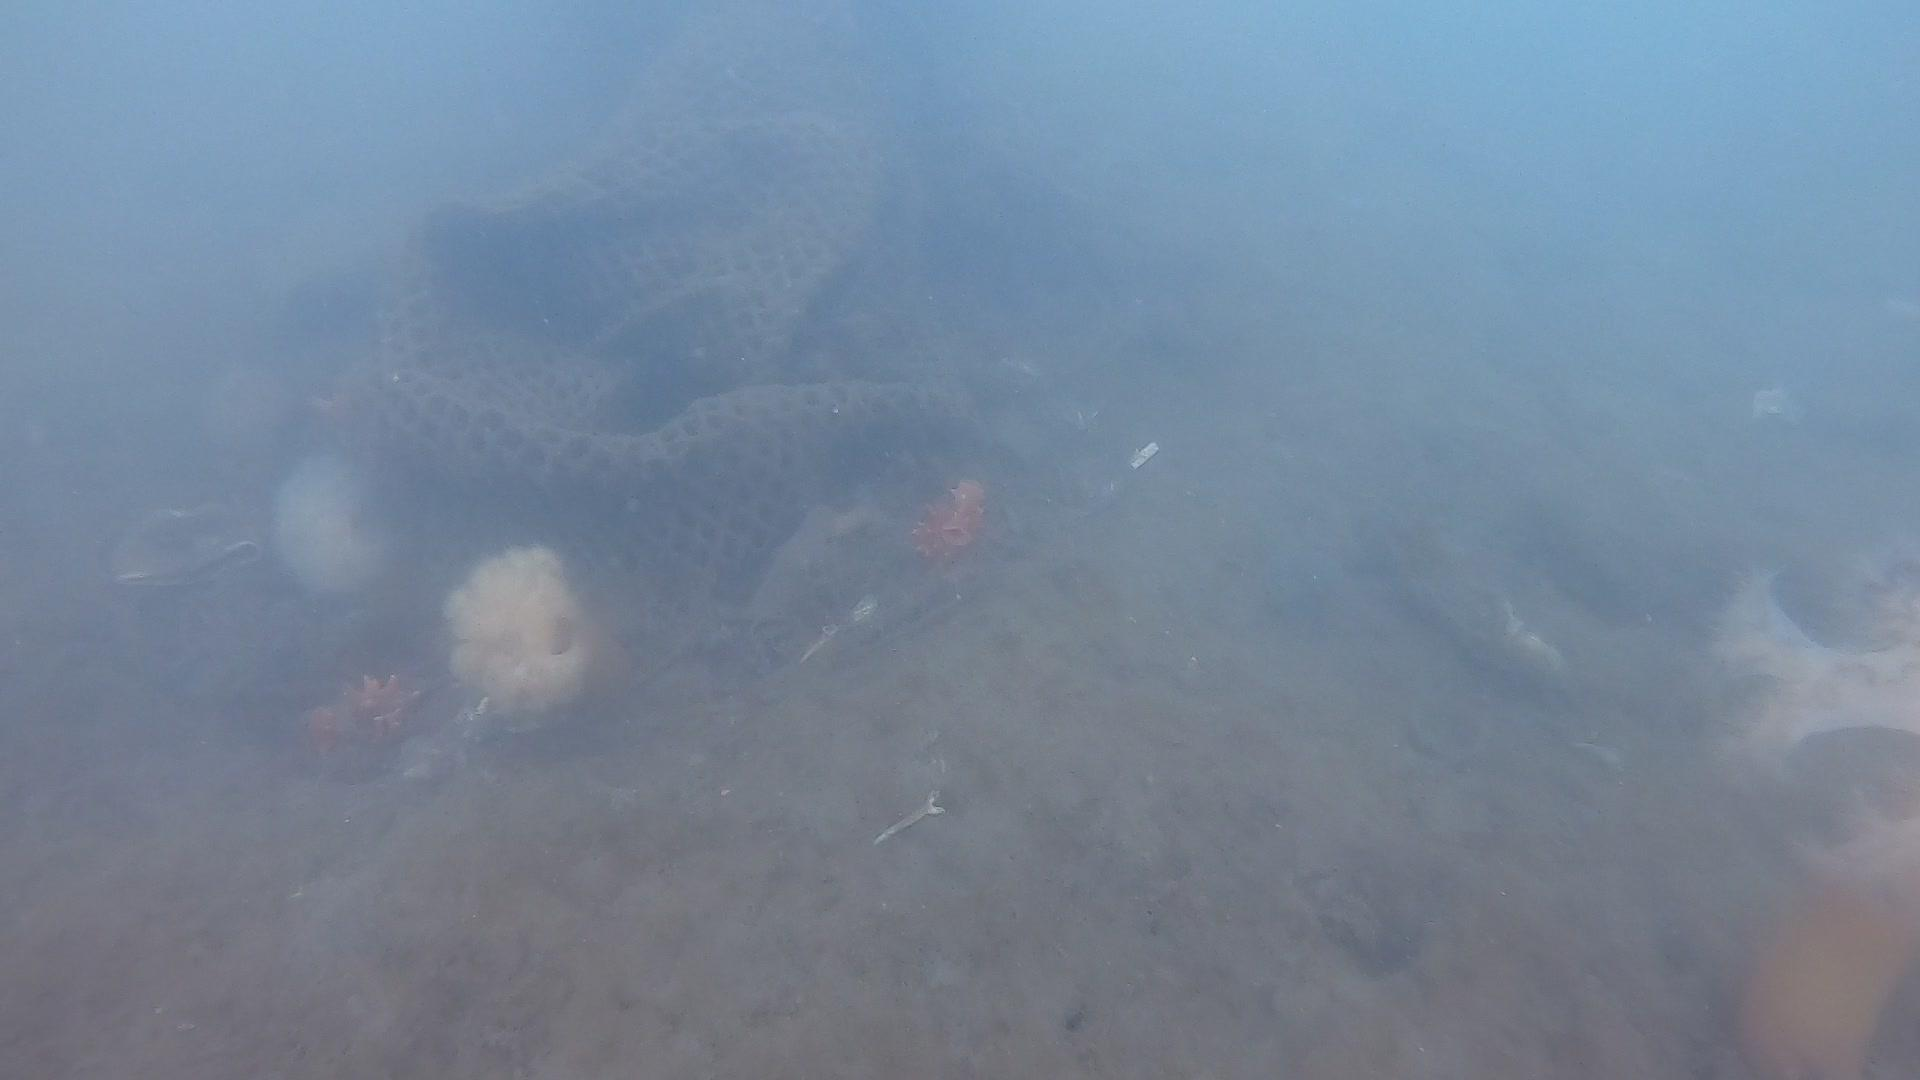fish net: (295, 0, 967, 633)
